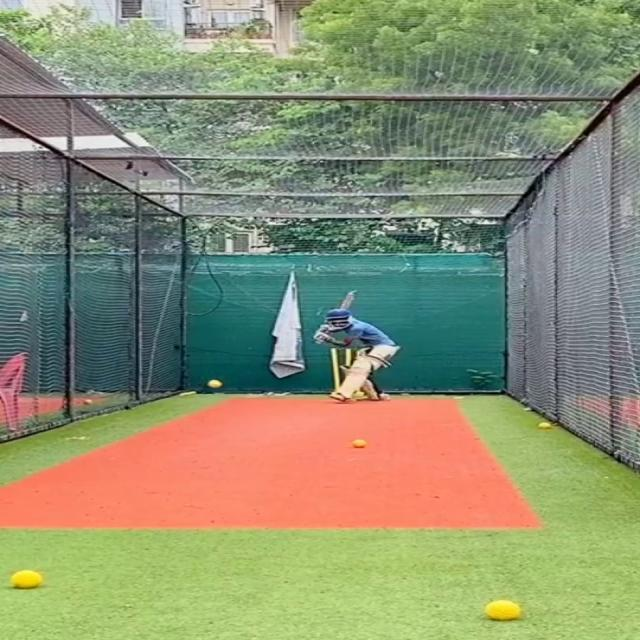ball: (476, 597, 526, 623), (5, 569, 47, 593), (348, 438, 368, 449), (534, 420, 552, 430), (205, 379, 222, 388), (80, 397, 92, 405)
stump: (324, 346, 342, 399)
